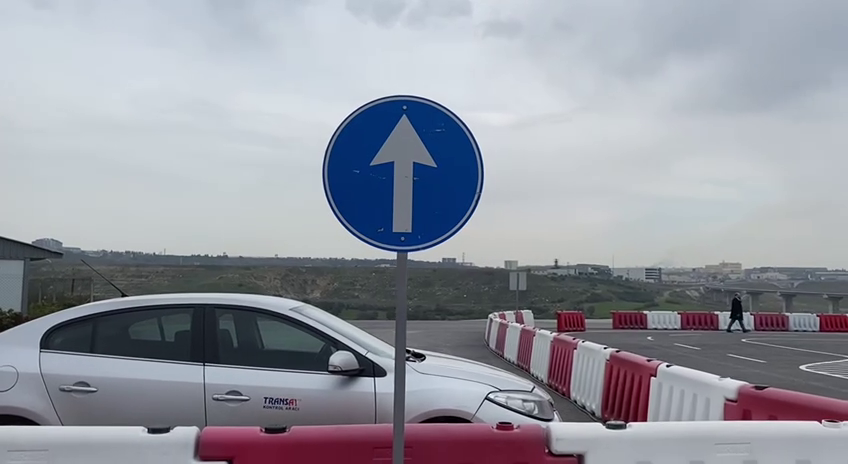forward: (316, 89, 490, 259)
